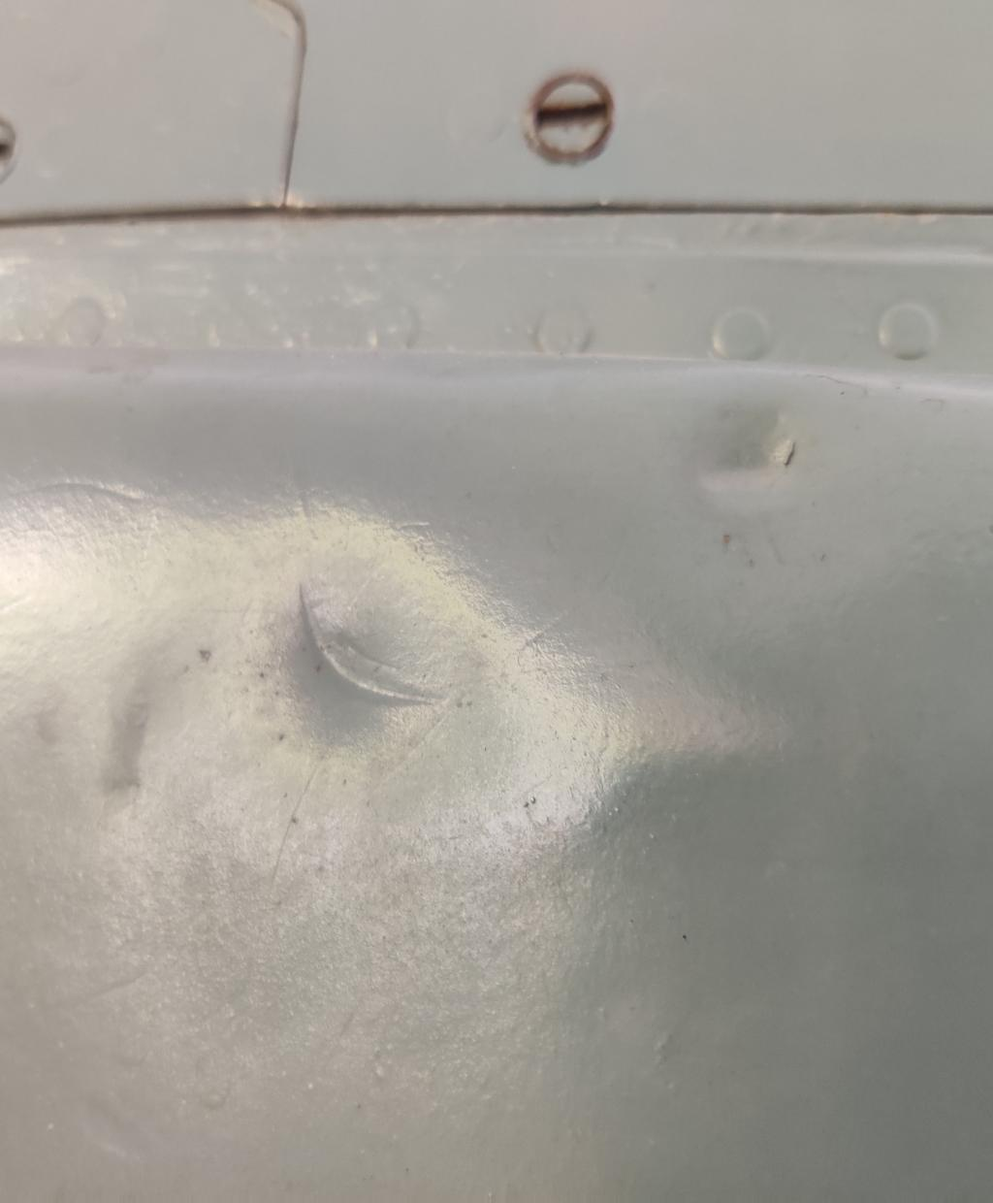dent: (248, 501, 506, 810), (662, 373, 851, 553)
